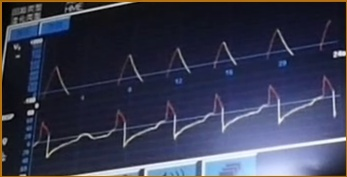Ineffective_effort Flow: (34, 76, 339, 158)
Ineffective_effort Volume: (42, 19, 339, 95)
